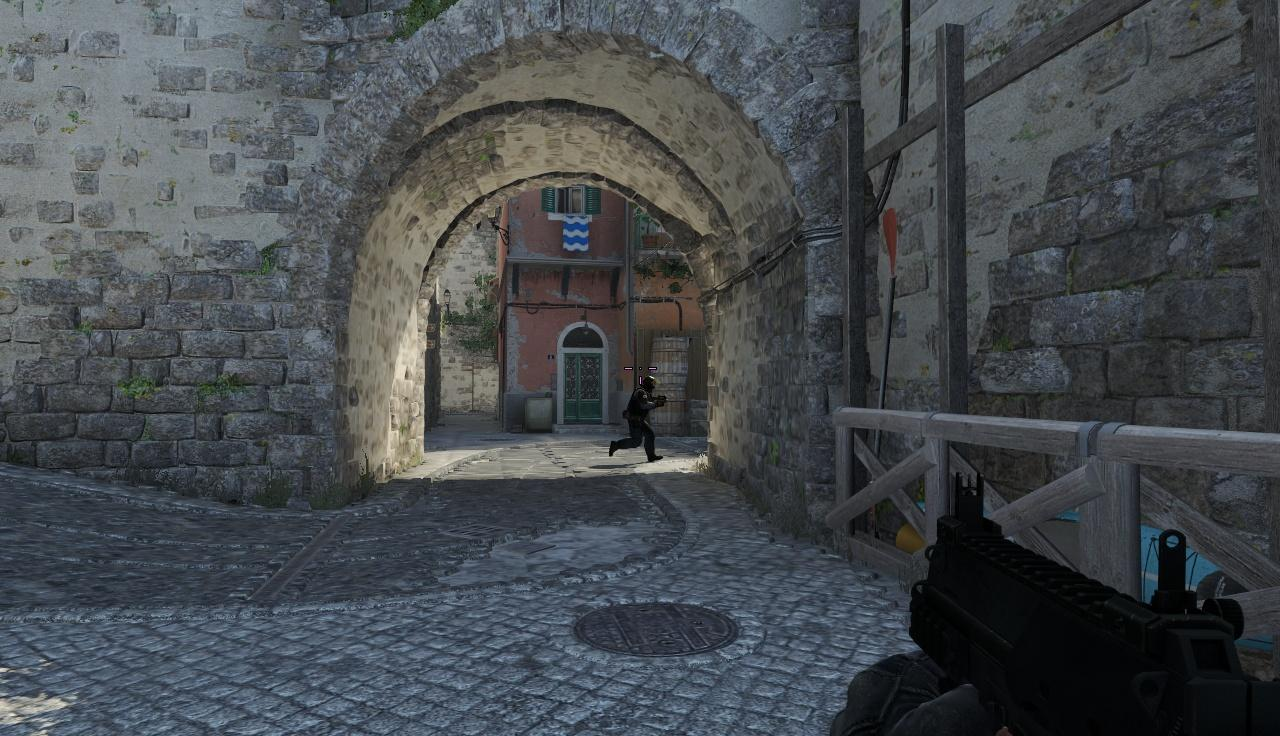ct: (628, 375, 663, 464)
cthead: (640, 375, 658, 392)
rifle: (913, 474, 1280, 736)
